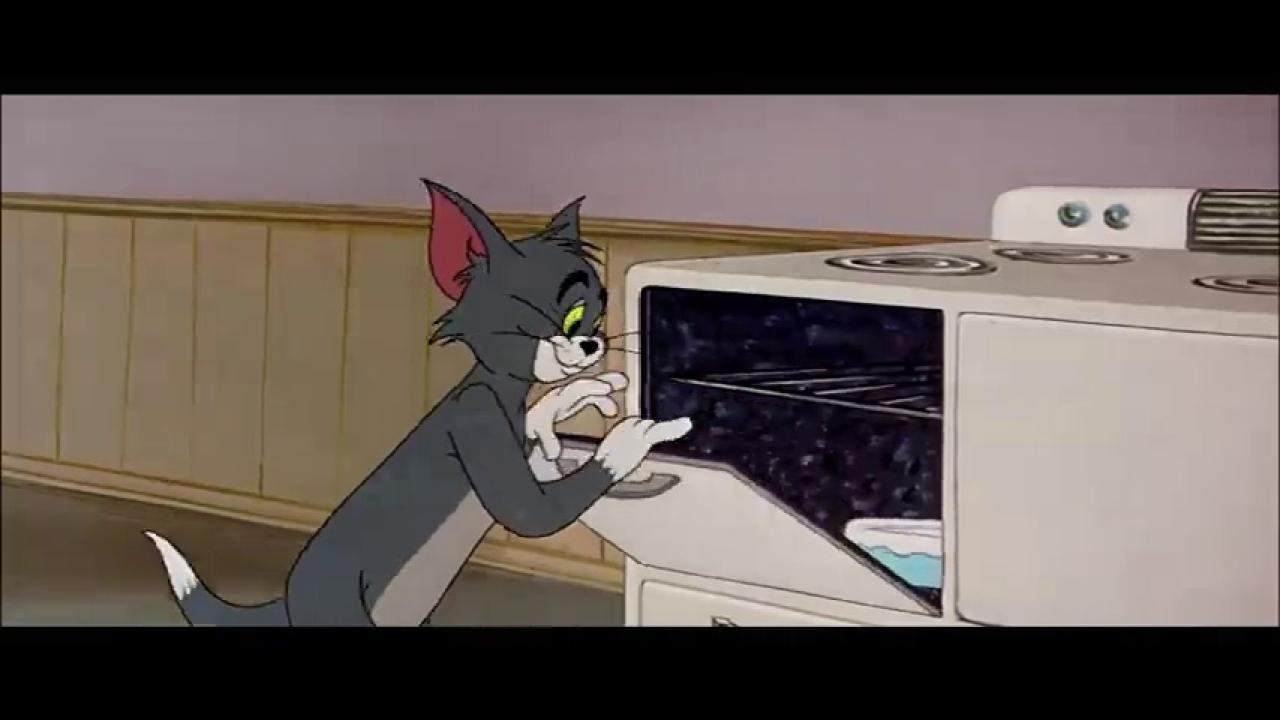Tom: (143, 175, 694, 626)
